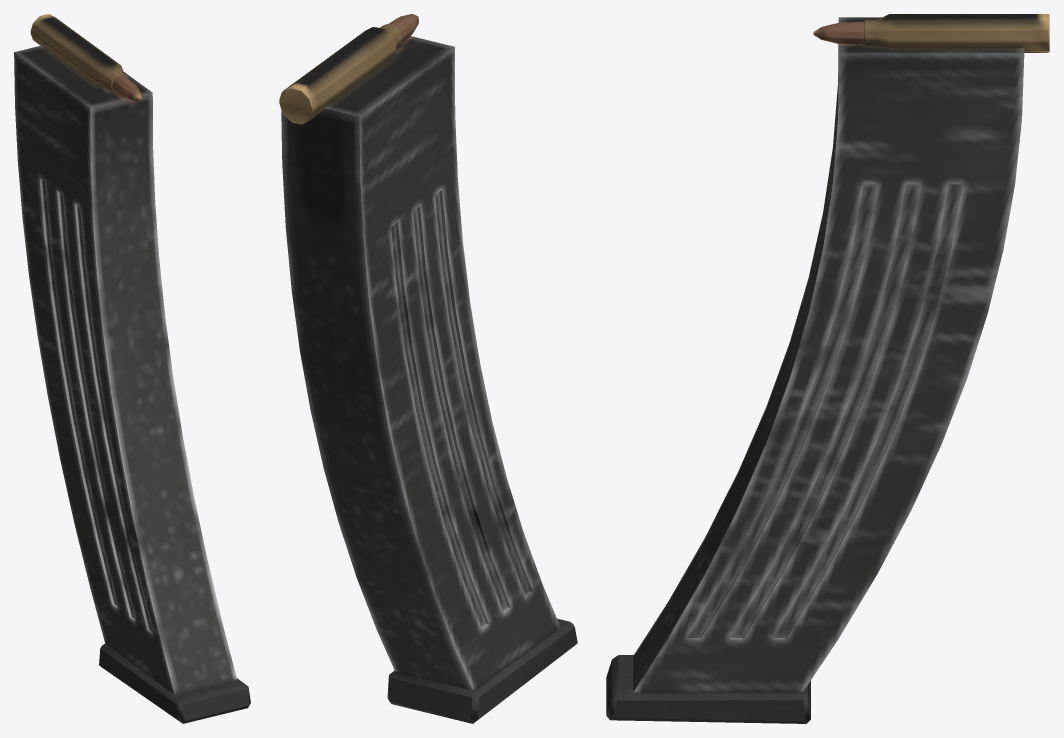
File: ak_rifle_mag.glb
3 renders of one model, left to right at view 1: azimuth 30°, elevation 25°; view 2: azimuth 150°, elevation 25°; view 3: azimuth 270°, elevation 25°, orthographic. The views are drawn at different scales.
Parts seen in each view (by area): view 1: magazine; view 2: magazine; view 3: magazine.
Part boxes in pixels (x1,y1,x2,y2): magazine: (14,14,250,723); magazine: (279,14,577,723); magazine: (606,14,1049,723).
Bounding box in the file's own units: 0.024 × 0.1814 × 0.1051.
Materials: 1 (1 with a texture image).
